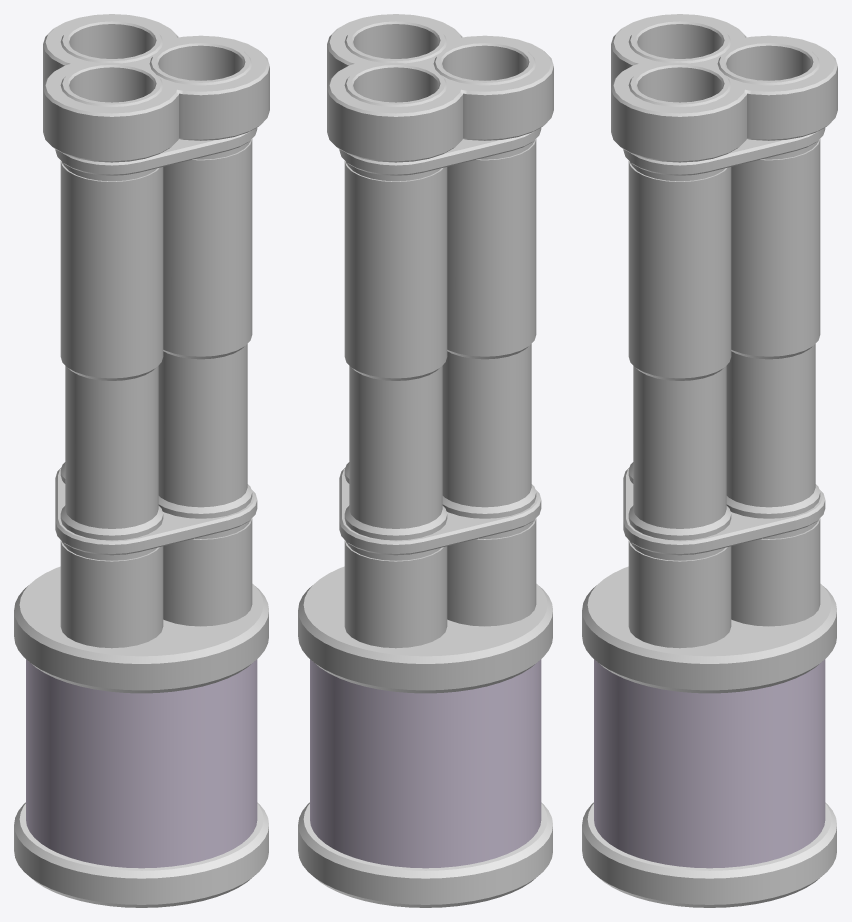
The model's file is Weapon_Deliverance_Barrel.fbx.
The picture shows the model from 3 angles, left to right: view 1: azimuth 30°, elevation 25°; view 2: azimuth 150°, elevation 25°; view 3: azimuth 270°, elevation 25°; orthographic projection.
Parts seen in each view (by area): view 1: GatlingRifle_Barrel; view 2: GatlingRifle_Barrel; view 3: GatlingRifle_Barrel.
Boxes of the visible parts, x1,y1,x2,y2 form: GatlingRifle_Barrel: (14, 14, 269, 907); GatlingRifle_Barrel: (298, 14, 553, 907); GatlingRifle_Barrel: (582, 14, 837, 907).
Size of the model in its own units: 0.2003 by 0.6885 by 0.2009.
